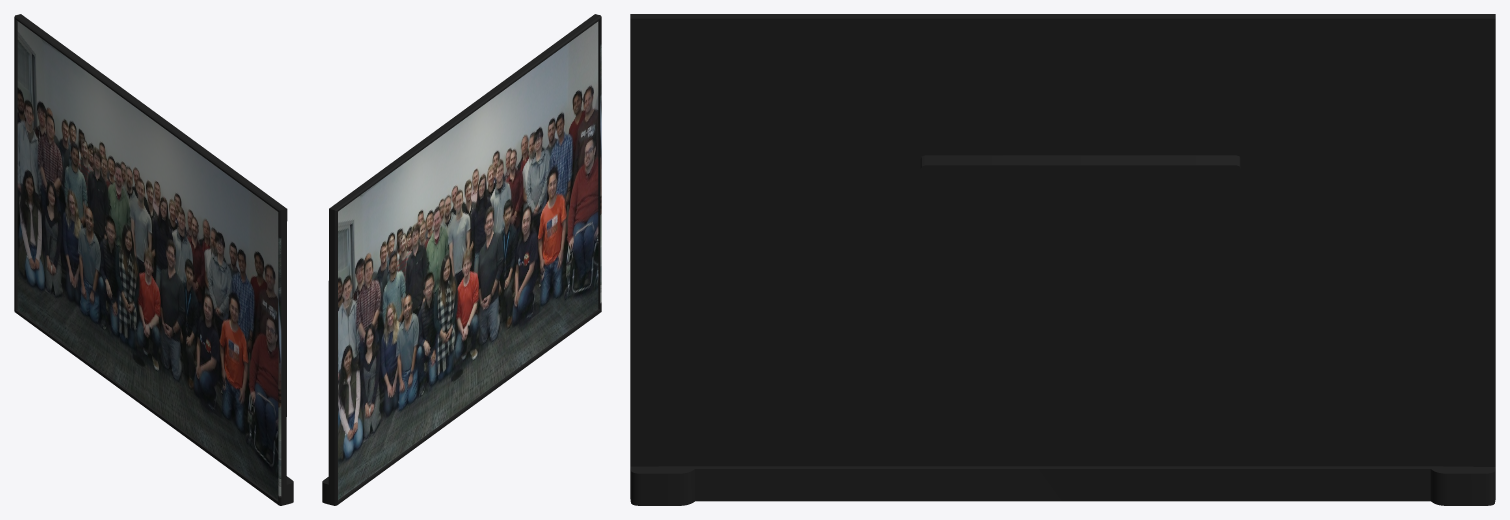
The model's file is aws_TV_01_visual.DAE.
The picture shows the model from 3 angles, left to right: view 1: azimuth 30°, elevation 25°; view 2: azimuth 150°, elevation 25°; view 3: azimuth 270°, elevation 25°; orthographic projection. The views are drawn at different scales.
Parts seen in each view (by area): view 1: aws_TV_01_visual; view 2: aws_TV_01_visual; view 3: aws_TV_01_visual.
Part boxes in pixels (x1=…): aws_TV_01_visual: x1=14, y1=14, x2=293, y2=505; aws_TV_01_visual: x1=322, y1=14, x2=601, y2=505; aws_TV_01_visual: x1=630, y1=14, x2=1495, y2=505.
Size of the model in its own units: 5.5 by 130 by 79.54.
Materials: 1 (1 with a texture image).
